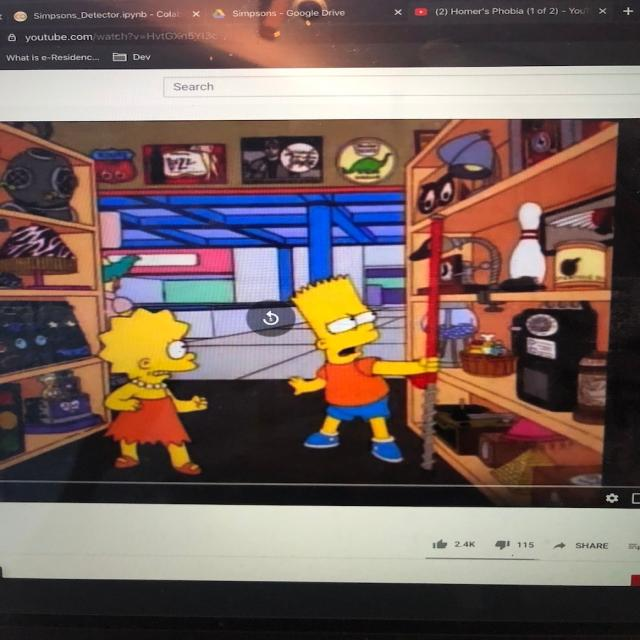Bart Simpson: (286, 271, 383, 370)
Lisa Simpson: (89, 304, 202, 392)
